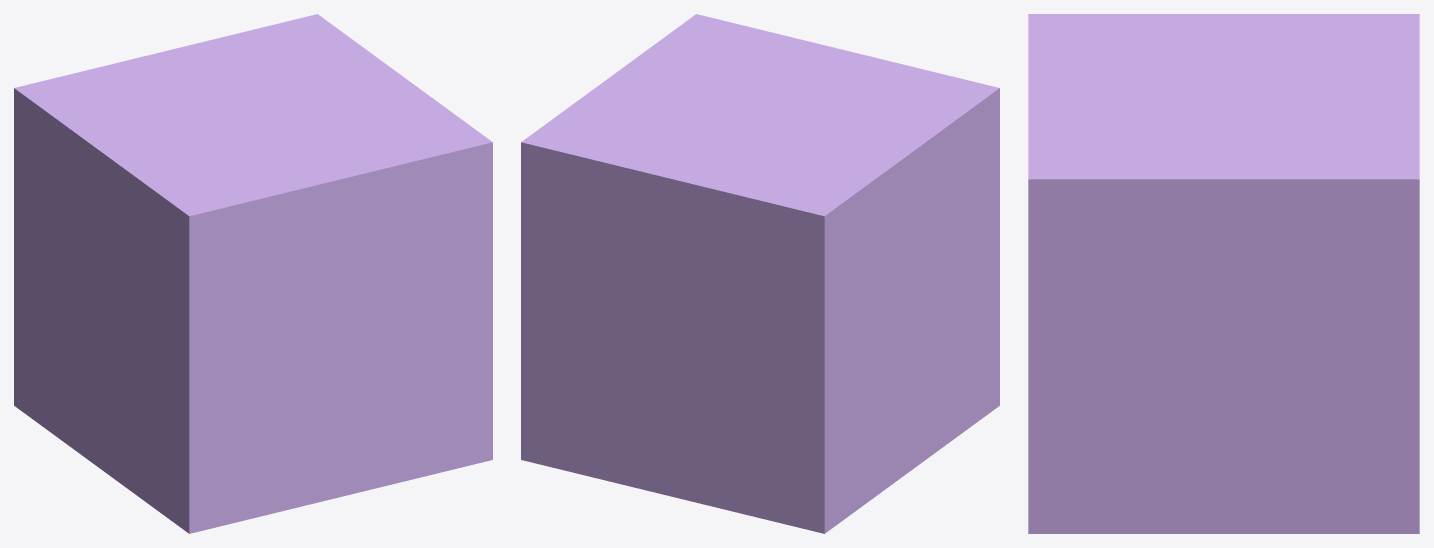
The model's file is 123_violet_brick.glb.
The picture shows the model from 3 angles, left to right: view 1: azimuth 30°, elevation 25°; view 2: azimuth 150°, elevation 25°; view 3: azimuth 270°, elevation 25°; orthographic projection. The views are drawn at different scales.
Parts seen in each view (by area): view 1: Core; view 2: Core; view 3: Core.
Part boxes in pixels (bbox=[...]): Core: bbox=[14, 14, 492, 533]; Core: bbox=[521, 14, 999, 533]; Core: bbox=[1028, 14, 1419, 533].
Size of the model in its own units: 1 by 1 by 1.
